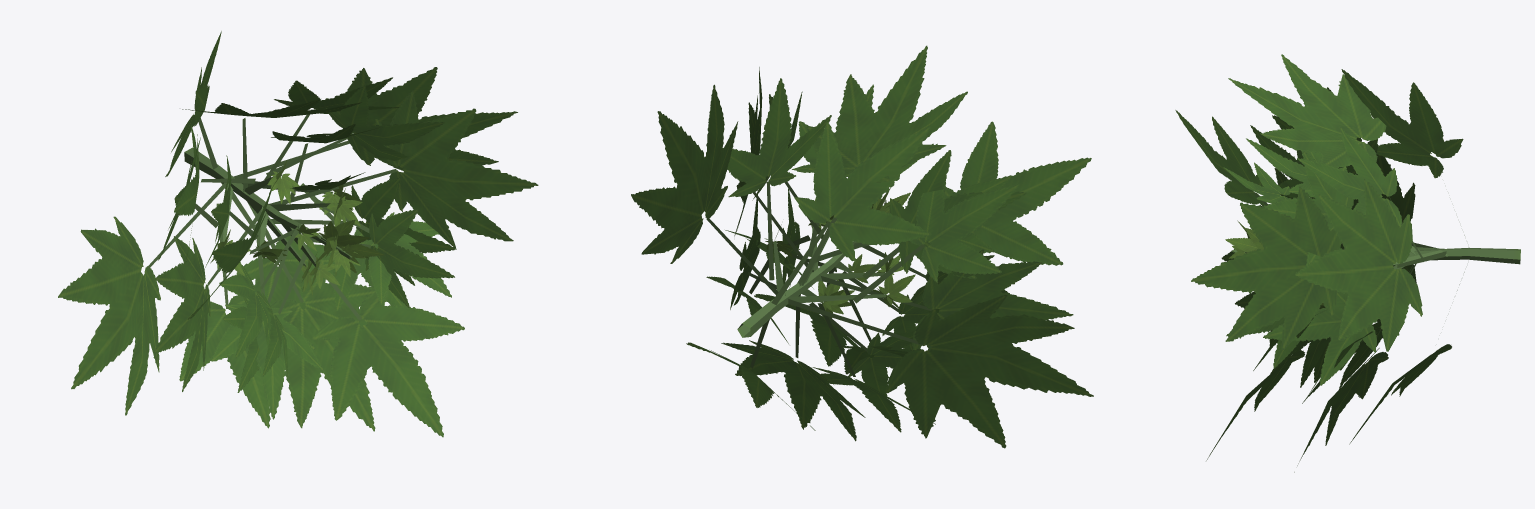
Rendered from p_tree_vegetative_c0_cards.obj.
The picture shows the model from 3 angles, left to right: view 1: azimuth 30°, elevation 25°; view 2: azimuth 150°, elevation 25°; view 3: azimuth 270°, elevation 25°; orthographic projection. The views are drawn at different scales.
Bounding box in the file's own units: 1.56 × 1.25 × 0.933.
Materials: 1 (1 with a texture image).
